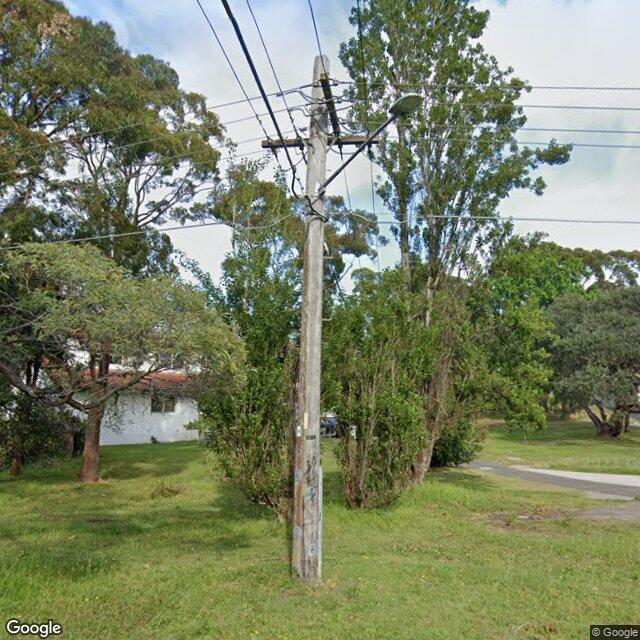crossarm: (261, 132, 380, 148), (318, 77, 342, 137)
streetlight: (318, 94, 424, 195)
timber-pole: (290, 54, 332, 578)
